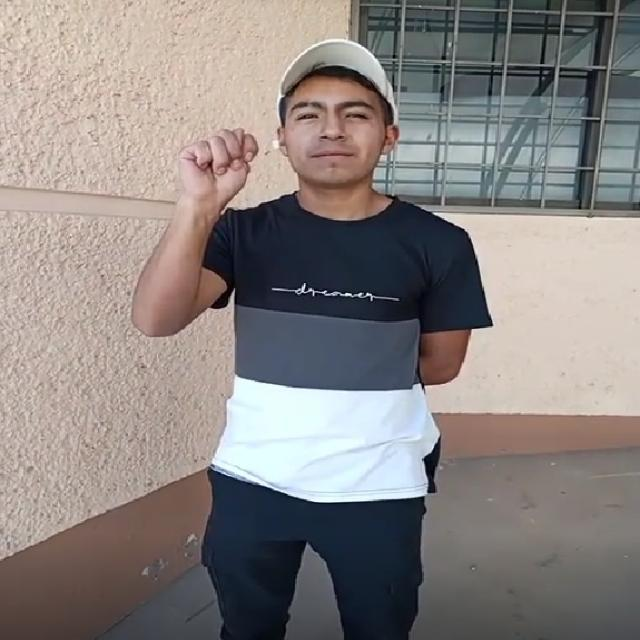S: (156, 109, 274, 212)
